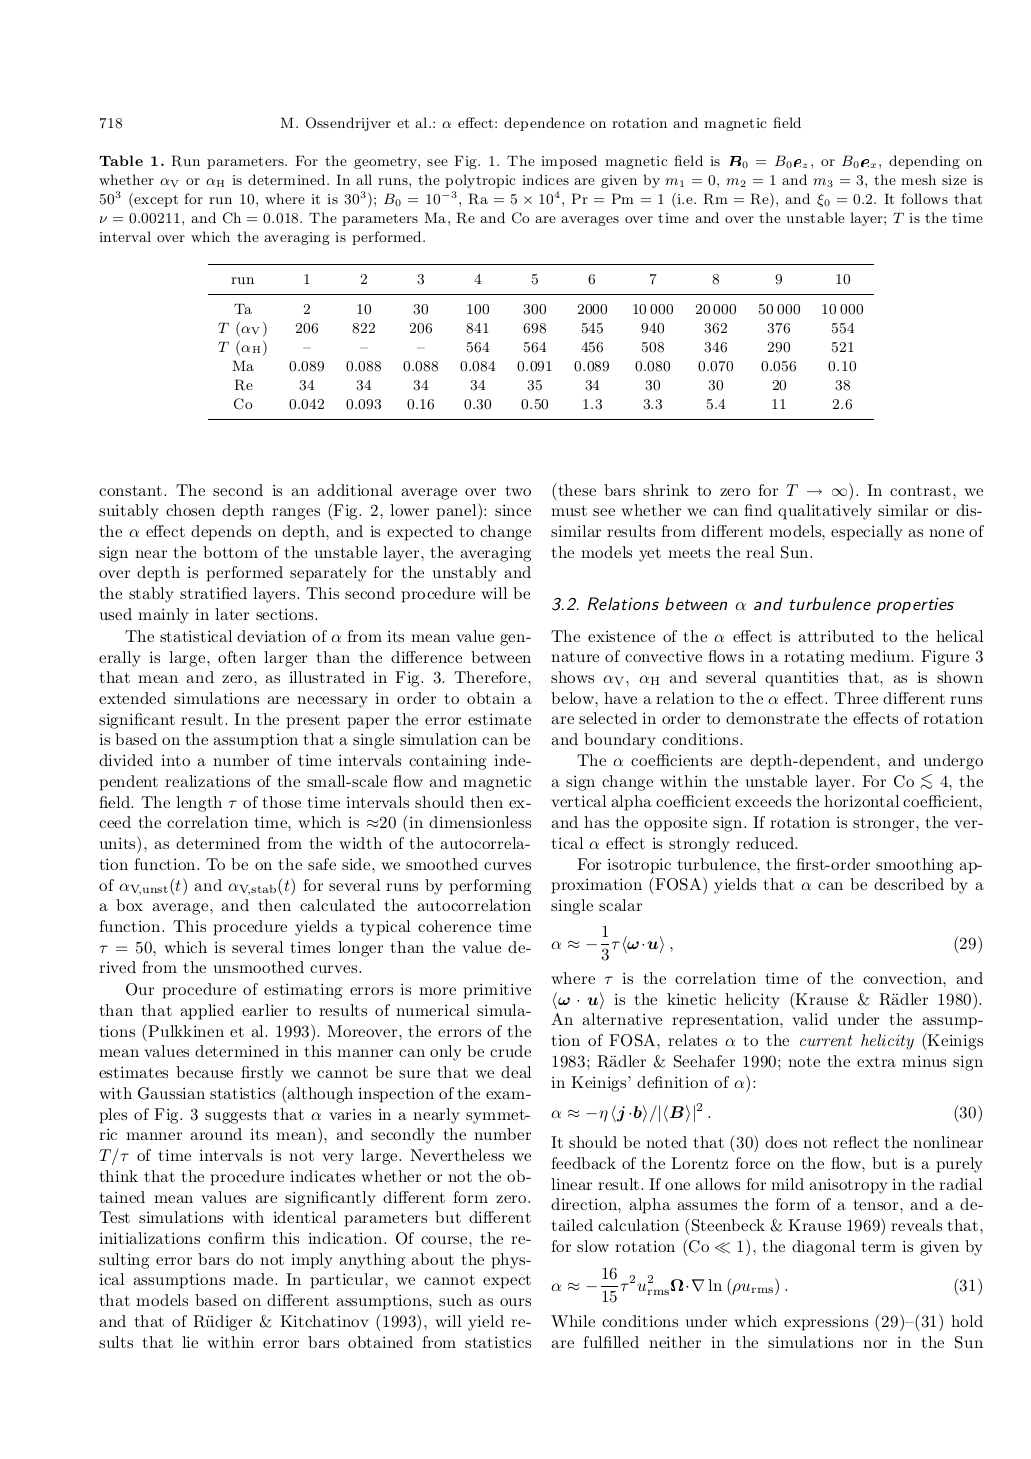Table: (208, 264, 873, 419)
formula: (551, 924, 981, 962), (551, 1265, 981, 1303), (551, 1102, 981, 1123)
